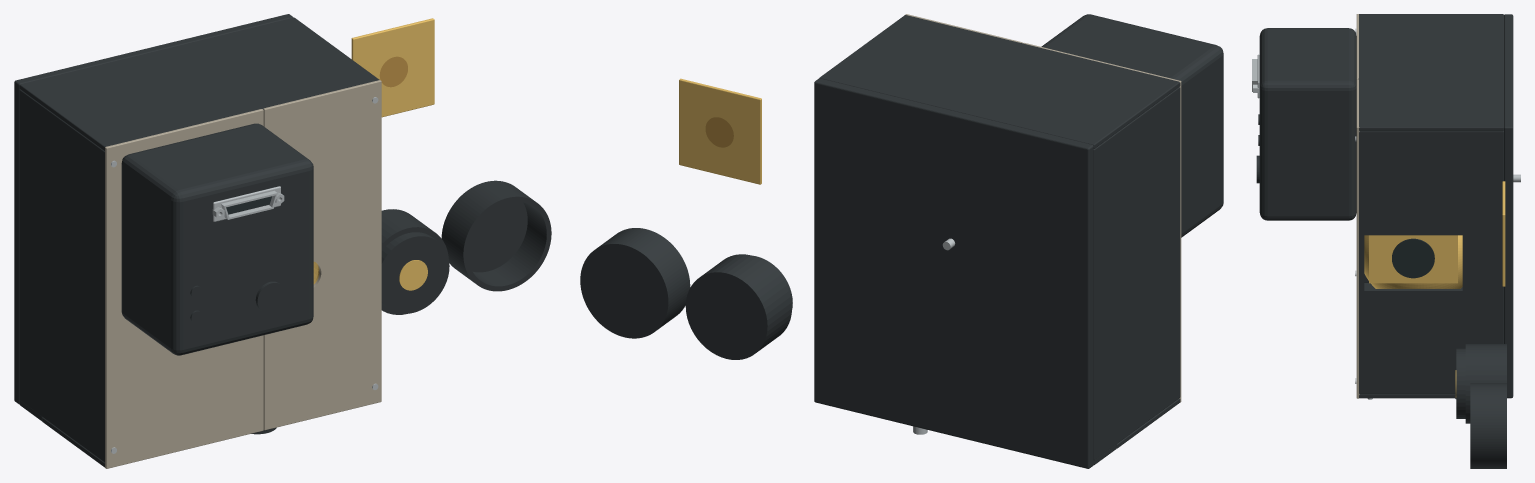
Rendered from prepared_pike_candidate.glb.
The picture shows the model from 3 angles, left to right: view 1: azimuth 30°, elevation 25°; view 2: azimuth 150°, elevation 25°; view 3: azimuth 270°, elevation 25°; orthographic projection. The views are drawn at different scales.
Parts seen in each view (by area): view 1: detector_enclosure, top_sample_panel, left_panel, rear_panel, top_left_panel, reference_protective_cap, optional_sample_plate, gold_reference_shoulder, module_base, gold_reference_holder, detector_top_access_cap, diffuse_gold_reference_face (+2 smaller); view 2: module_base, left_panel, rear_panel, detector_enclosure, reference_protective_cap, gold_reference_holder, optional_sample_plate, top_left_panel, optional_ZnSe_window; view 3: right_panel, detector_enclosure, rear_panel, module_base, reference_protective_cap, right_recess_gold_plate, gold_reference_holder, right_optical_window, gold_sphere_shell, top_sample_panel, gold_reference_shoulder, front_panel (+1 smaller).
Part boxes in pixels (<box>): detector_enclosure: <box>121,123,313,355</box>; top_sample_panel: <box>263,80,381,430</box>; left_panel: <box>19,89,104,462</box>; rear_panel: <box>19,17,379,150</box>; top_left_panel: <box>105,109,263,468</box>; reference_protective_cap: <box>441,180,551,291</box>; optional_sample_plate: <box>351,18,434,117</box>; gold_reference_shoulder: <box>381,232,449,313</box>; module_base: <box>14,14,293,404</box>; gold_reference_holder: <box>381,209,448,314</box>; detector_top_access_cap: <box>255,281,285,313</box>; diffuse_gold_reference_face: <box>399,260,427,290</box>; module_base: <box>814,78,1093,468</box>; left_panel: <box>1093,87,1180,460</box>; rear_panel: <box>819,15,1180,148</box>; detector_enclosure: <box>1041,14,1223,237</box>; reference_protective_cap: <box>580,228,690,338</box>; gold_reference_holder: <box>685,254,791,359</box>; optional_sample_plate: <box>679,78,761,184</box>; top_left_panel: <box>1023,43,1181,402</box>; optional_ZnSe_window: <box>705,117,733,147</box>; right_panel: <box>1359,131,1503,394</box>; detector_enclosure: <box>1259,28,1356,220</box>; rear_panel: <box>1358,14,1503,131</box>; module_base: <box>1504,14,1513,398</box>; reference_protective_cap: <box>1470,383,1506,468</box>; right_recess_gold_plate: <box>1369,235,1457,283</box>; gold_reference_holder: <box>1465,344,1506,423</box>; right_optical_window: <box>1392,238,1434,278</box>; gold_sphere_shell: <box>1364,235,1462,288</box>; top_sample_panel: <box>1356,79,1359,398</box>; gold_reference_shoulder: <box>1456,348,1465,418</box>; front_panel: <box>1359,282,1462,398</box>.
Bounding box in the file's own units: 0.3255 × 0.2142 × 0.175.
